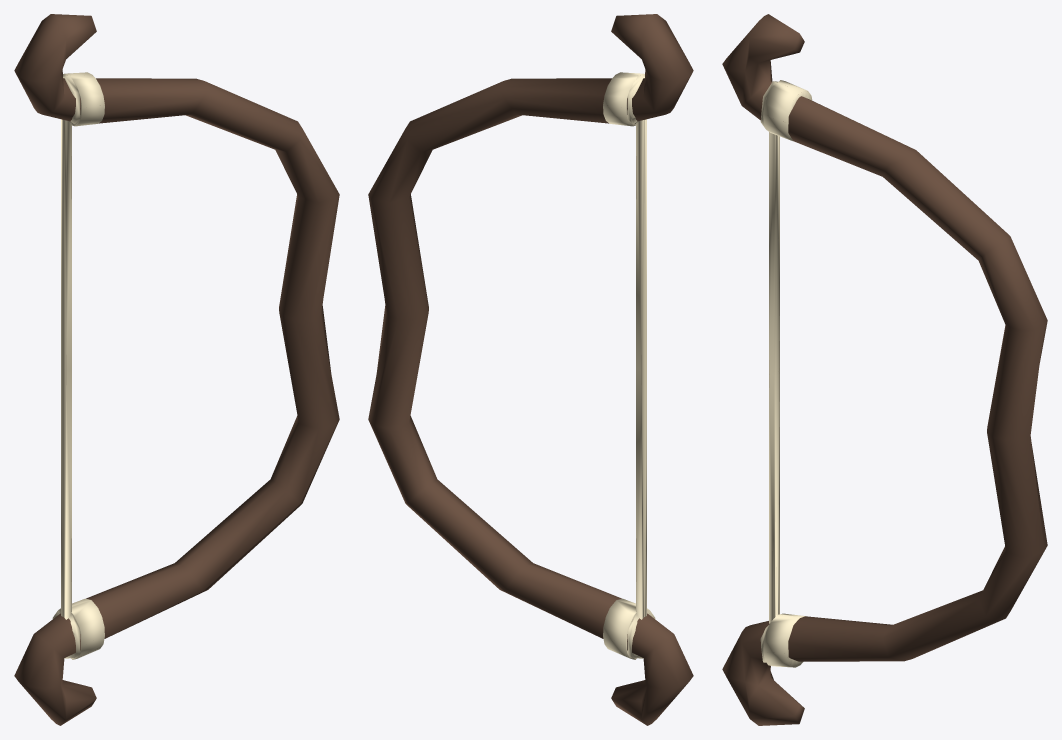
Rendered from Bow.fbx.
3 views of the same model, side by side, from view 1: azimuth 30°, elevation 25°; view 2: azimuth 150°, elevation 25°; view 3: azimuth 330°, elevation 25° (orthographic).
Visible parts, largest first — view 1: Bow_LP; view 2: Bow_LP; view 3: Bow_LP.
Boxes of the visible parts, bbox=[...] form: Bow_LP: bbox=[14, 14, 339, 725]; Bow_LP: bbox=[368, 14, 693, 725]; Bow_LP: bbox=[722, 14, 1047, 725].
Size of the model in its own units: 472 by 1006 by 69.42.
1 material, 1 textured.
